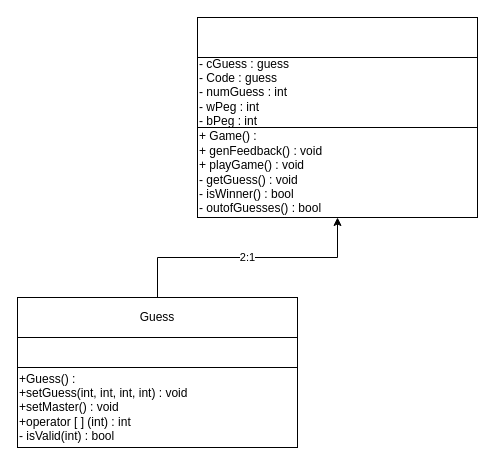
This 495x465 diagram has some shape labels left out. The box of each missing label's shape, as (x1, y1, x2, y2) in pixels:
- aGuess : int [4]: (16, 336, 298, 368)
Game: (196, 16, 478, 58)
